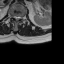CCS_normal: (16, 13, 18, 24)
LFS_normal: (20, 14, 23, 21)
LLS_normal: (18, 13, 20, 21)
RFS_stenosis: (11, 12, 14, 19)
RLS_normal: (14, 13, 16, 21)
